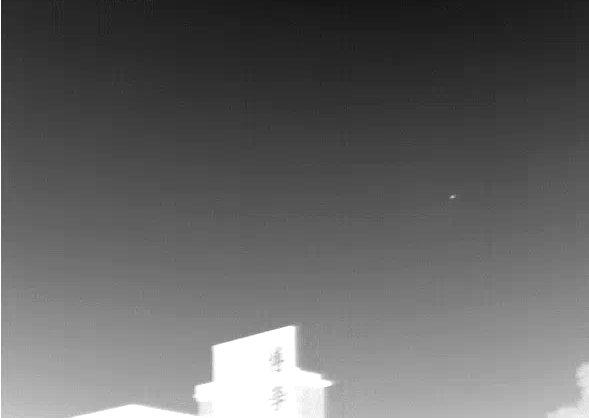dim target: (449, 193, 456, 200)
